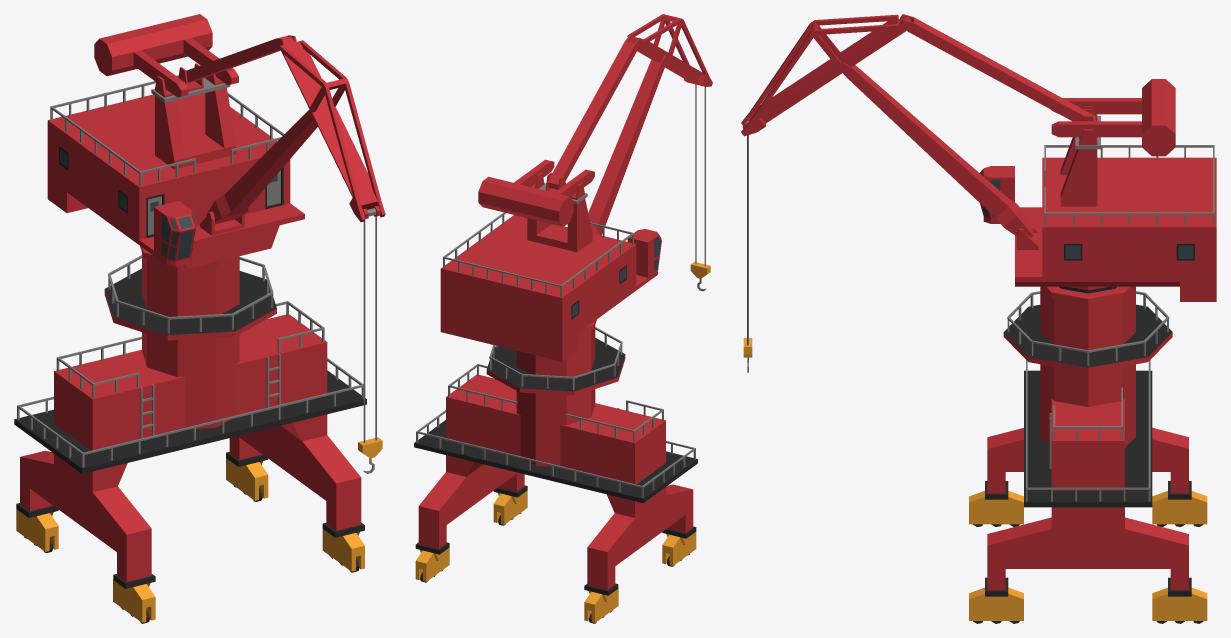
Rendered from buildings_crane-docks.fbx.
3 views of the same model, side by side, from view 1: azimuth 30°, elevation 25°; view 2: azimuth 150°, elevation 25°; view 3: azimuth 270°, elevation 25° (orthographic). The views are drawn at different scales.
Parts seen in each view (by area): view 1: crane_docks_base, crane_docks_top, crane_docks_arm_tip, crane_docks_arm_main, crane_docks_hook, crane_docks_arm_back; view 2: crane_docks_base, crane_docks_top, crane_docks_arm_main, crane_docks_arm_back, crane_docks_arm_tip, crane_docks_hook; view 3: crane_docks_base, crane_docks_top, crane_docks_arm_tip, crane_docks_arm_main, crane_docks_arm_back.
Part boxes in pixels (x1=…): crane_docks_base: x1=14, y1=246, x2=366, y2=623; crane_docks_top: x1=47, y1=14, x2=304, y2=268; crane_docks_arm_tip: x1=279, y1=36, x2=385, y2=222; crane_docks_arm_main: x1=206, y1=109, x2=317, y2=224; crane_docks_hook: x1=358, y1=216, x2=382, y2=473; crane_docks_arm_back: x1=186, y1=35, x2=296, y2=82; crane_docks_base: x1=414, y1=319, x2=697, y2=623; crane_docks_top: x1=440, y1=159, x2=661, y2=361; crane_docks_arm_main: x1=588, y1=55, x2=667, y2=235; crane_docks_arm_back: x1=547, y1=35, x2=641, y2=189; crane_docks_arm_tip: x1=627, y1=14, x2=712, y2=86; crane_docks_hook: x1=690, y1=84, x2=710, y2=291; crane_docks_base: x1=969, y1=286, x2=1207, y2=623; crane_docks_top: x1=980, y1=79, x2=1216, y2=301; crane_docks_arm_tip: x1=741, y1=14, x2=910, y2=136; crane_docks_arm_main: x1=838, y1=63, x2=1033, y2=237; crane_docks_arm_back: x1=900, y1=14, x2=1095, y2=121.
Size of the model in its own units: 95.48 by 188 by 146.
